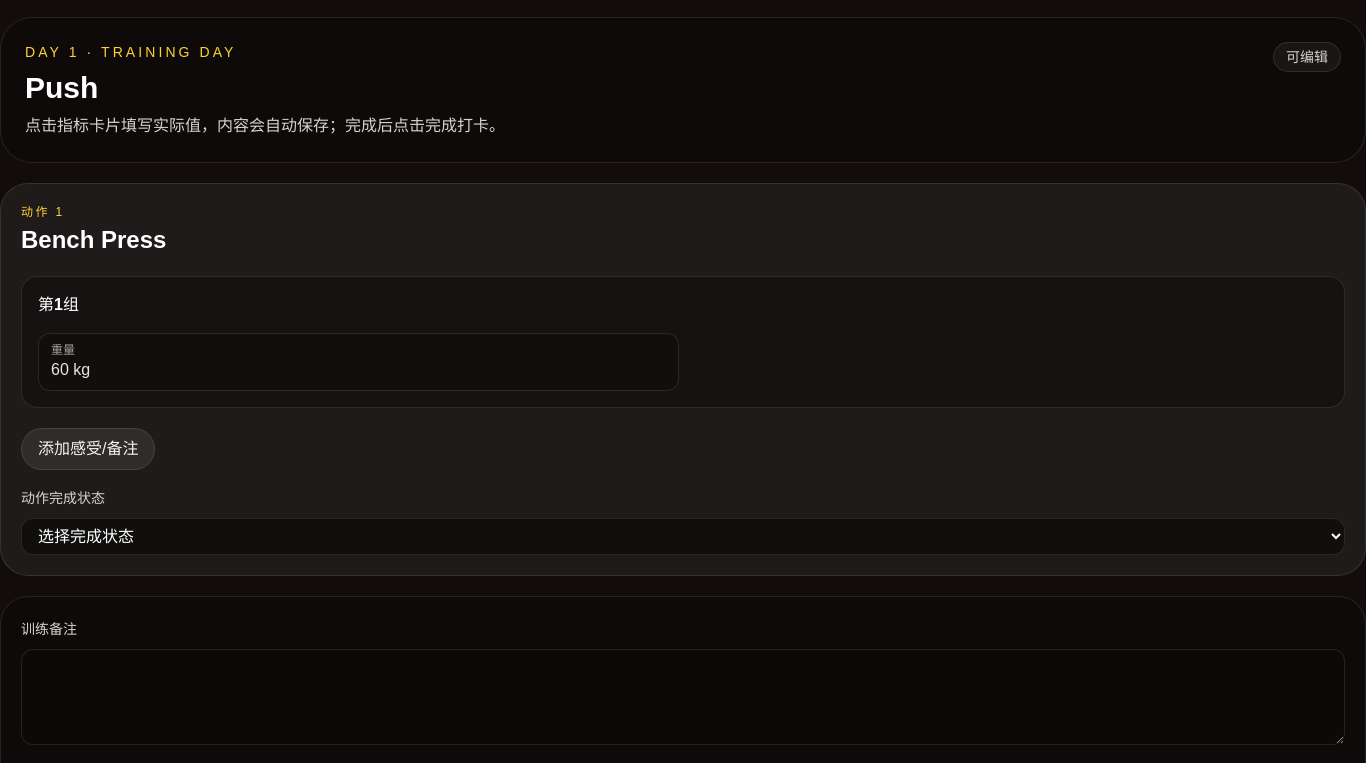
WorkoutPage › keeps the completed day visible instead of automatically moving to the next day
(page scrolled)
Expected: the heading "Bench Press" is shown, [21,224,166,256]
Select "已完成" in the dropdown named "Bench Press 完成状态" at (683, 536), box [21,518,1345,555]
(page scrolled)
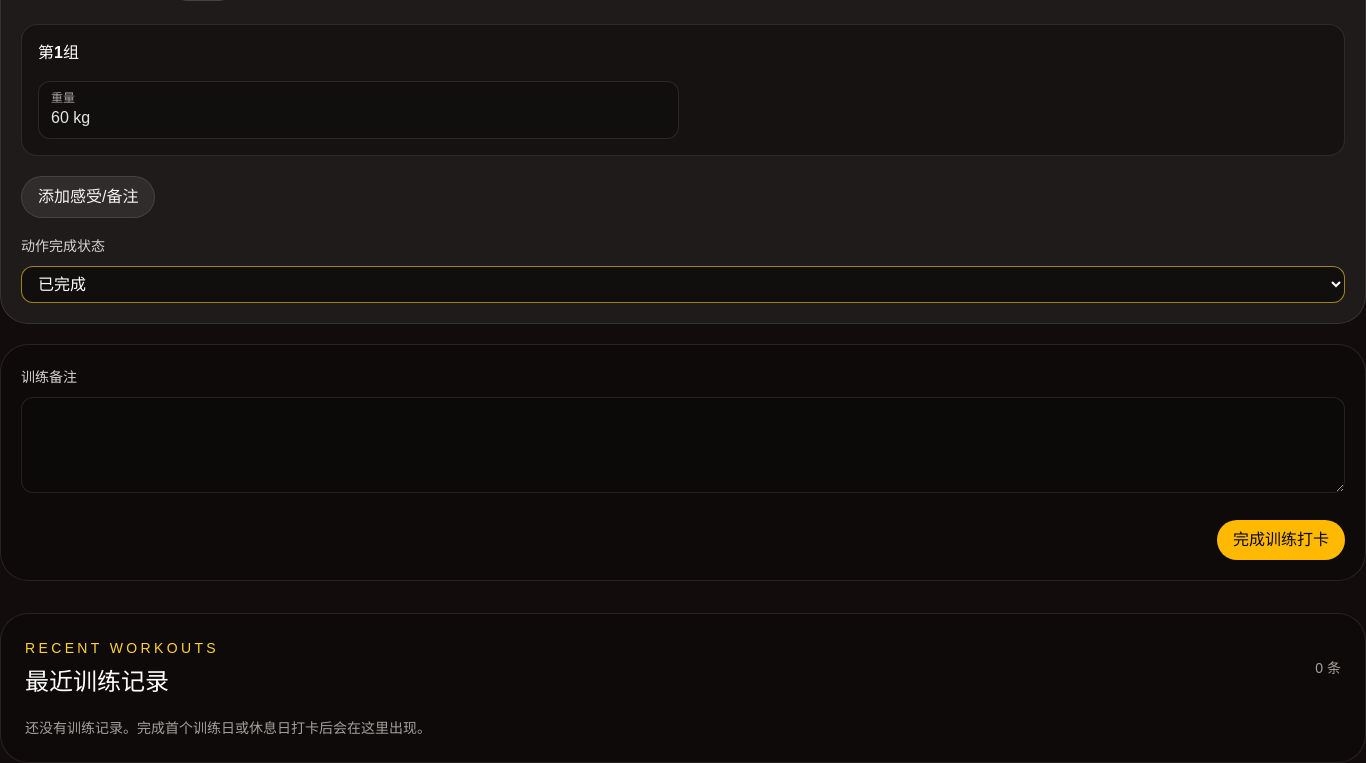
Click the button "完成训练打卡" at (1281, 540), box [1217,520,1345,560]
(page scrolled)
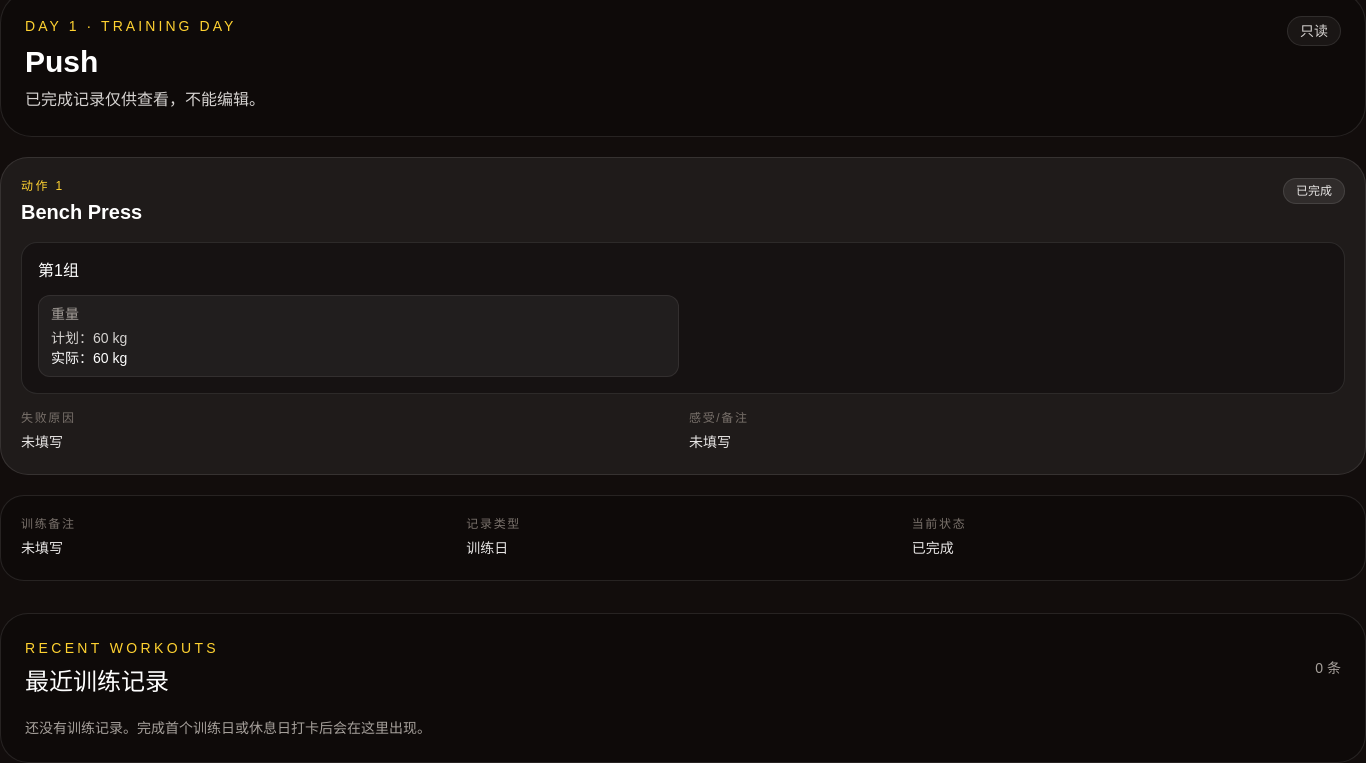
Expected: the text "已完成记录仅供查看，不能编辑。" is shown, [25,88,265,112]
Expected: the button "完成训练打卡" is gone
